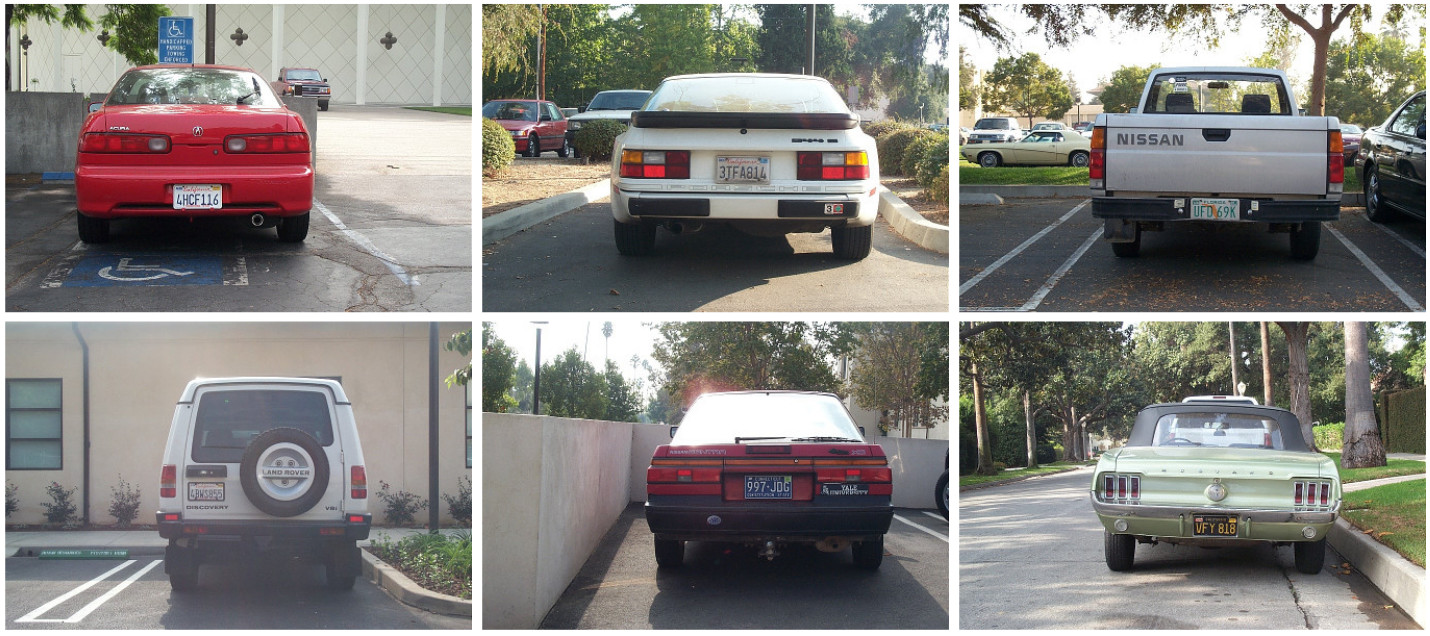car: (63, 50, 324, 271), (613, 68, 889, 264), (641, 386, 901, 589), (1093, 63, 1349, 264), (156, 371, 378, 596), (1090, 391, 1350, 579), (1357, 79, 1430, 238), (960, 112, 1093, 174), (481, 85, 574, 167), (275, 60, 335, 117)
